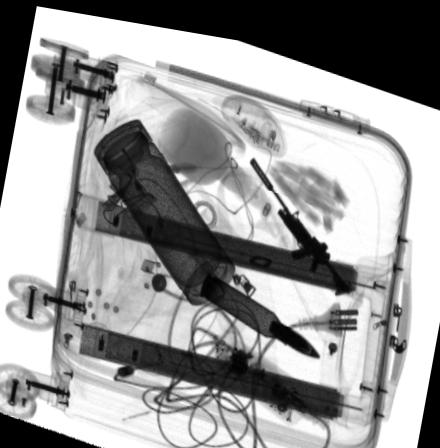Bullet: (199, 262, 320, 346)
Gun: (249, 148, 351, 284)
